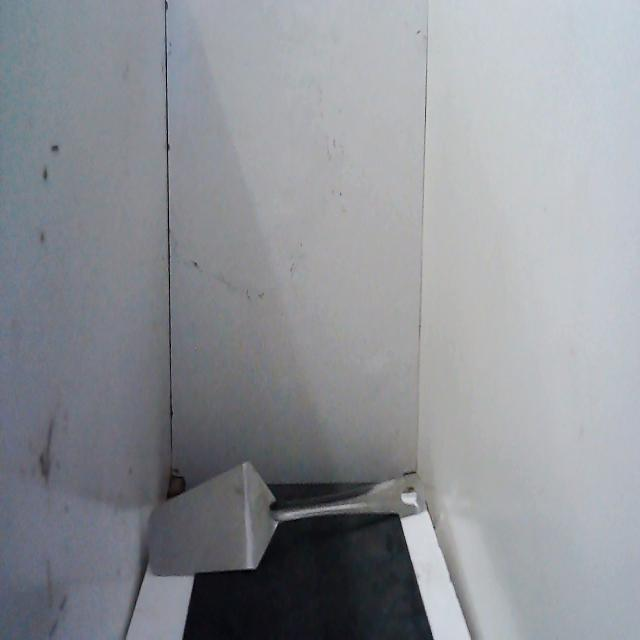metal: (141, 449, 429, 583)
